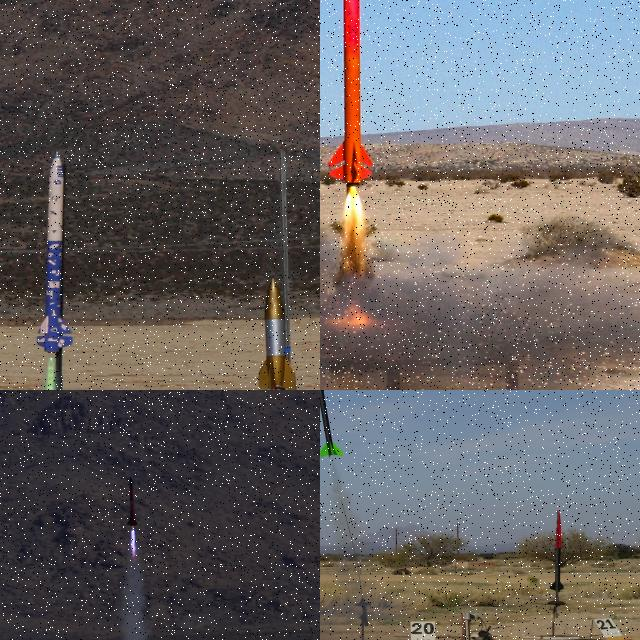Rocket: (325, 0, 375, 185), (34, 150, 74, 358), (254, 276, 297, 390), (320, 390, 344, 457), (550, 510, 564, 592), (126, 475, 139, 528)
